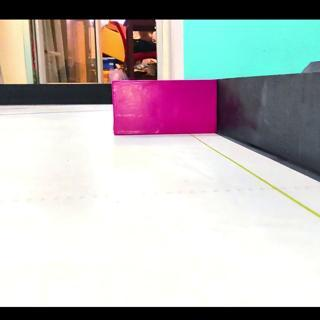xparking: (113, 80, 212, 133)
